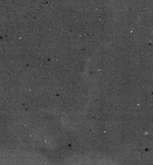Halpha: (21, 44, 118, 154)
